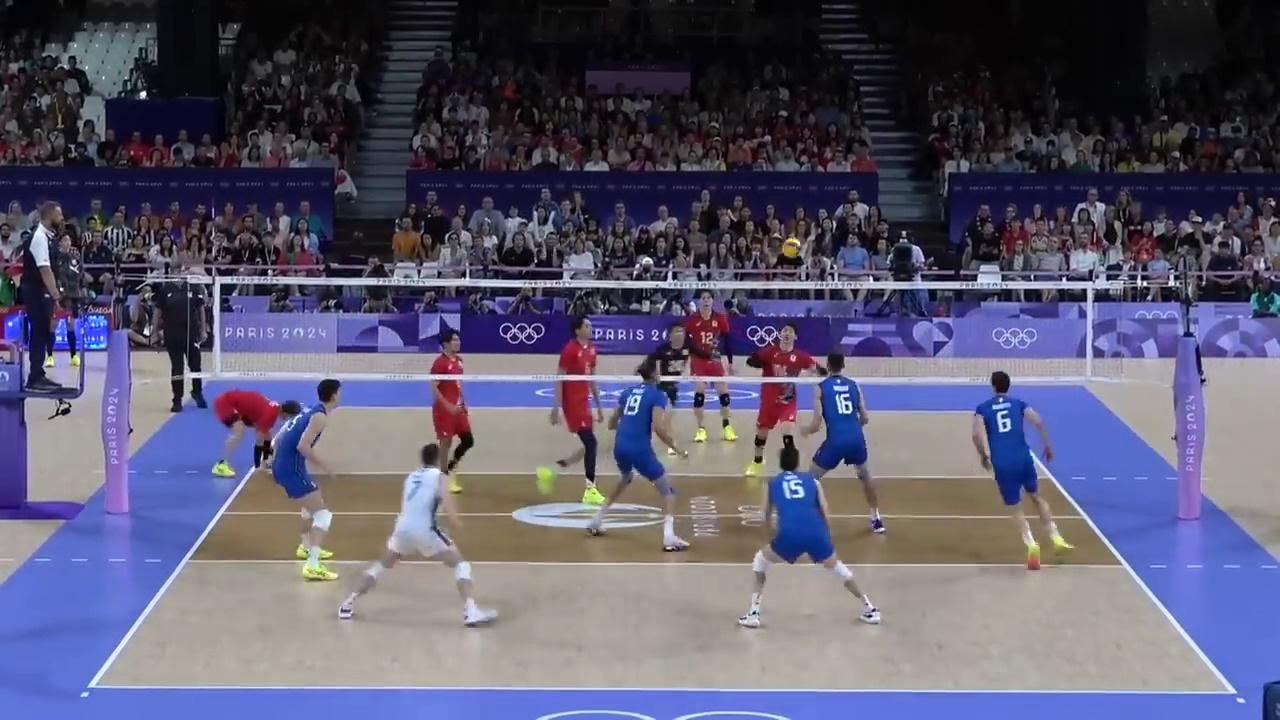ball: (780, 238, 800, 258)
